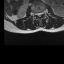CCS_stenosis: (38, 10, 40, 18)
LFS_normal: (42, 9, 44, 16)
LLS_normal: (40, 10, 42, 17)
RFS_normal: (34, 10, 36, 17)
RLS_normal: (36, 10, 38, 17)
